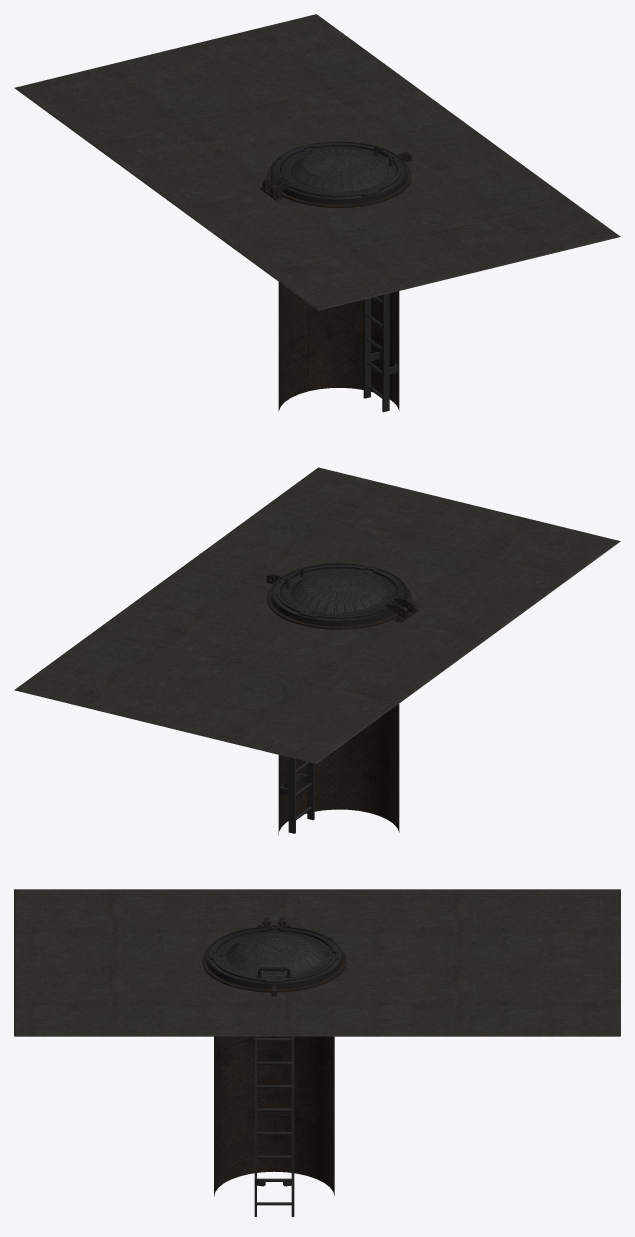
The model's file is floor_manhole_shaft_end_1.obj.
3 renders of one model, top to bottom at view 1: azimuth 30°, elevation 25°; view 2: azimuth 150°, elevation 25°; view 3: azimuth 270°, elevation 25°, orthographic.
Visible parts, largest first — view 1: floor_manhole_shaft_end_1, manhole_cover_1, shaft_end_ladder; view 2: floor_manhole_shaft_end_1, manhole_cover_1, shaft_end_ladder; view 3: floor_manhole_shaft_end_1, manhole_cover_1, shaft_end_ladder.
Boxes of the visible parts, box(x1,y1,x2,y2) form: floor_manhole_shaft_end_1: box(14, 14, 620, 411); manhole_cover_1: box(263, 141, 408, 204); shaft_end_ladder: box(363, 293, 398, 412); floor_manhole_shaft_end_1: box(14, 467, 620, 835); manhole_cover_1: box(269, 563, 414, 626); shaft_end_ladder: box(280, 757, 314, 833); floor_manhole_shaft_end_1: box(14, 889, 620, 1196); manhole_cover_1: box(206, 917, 342, 995); shaft_end_ladder: box(254, 1036, 294, 1216).
Size of the model in its own units: 4.04 by 3.22 by 7.04.
